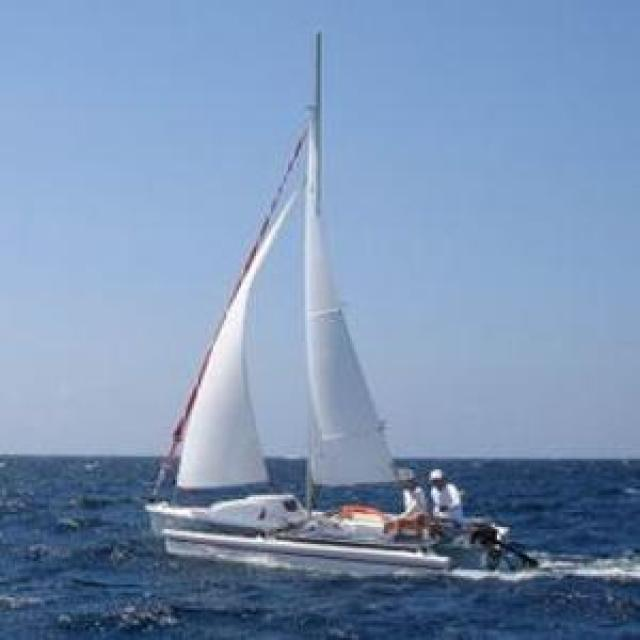sailboat: (145, 29, 468, 571)
